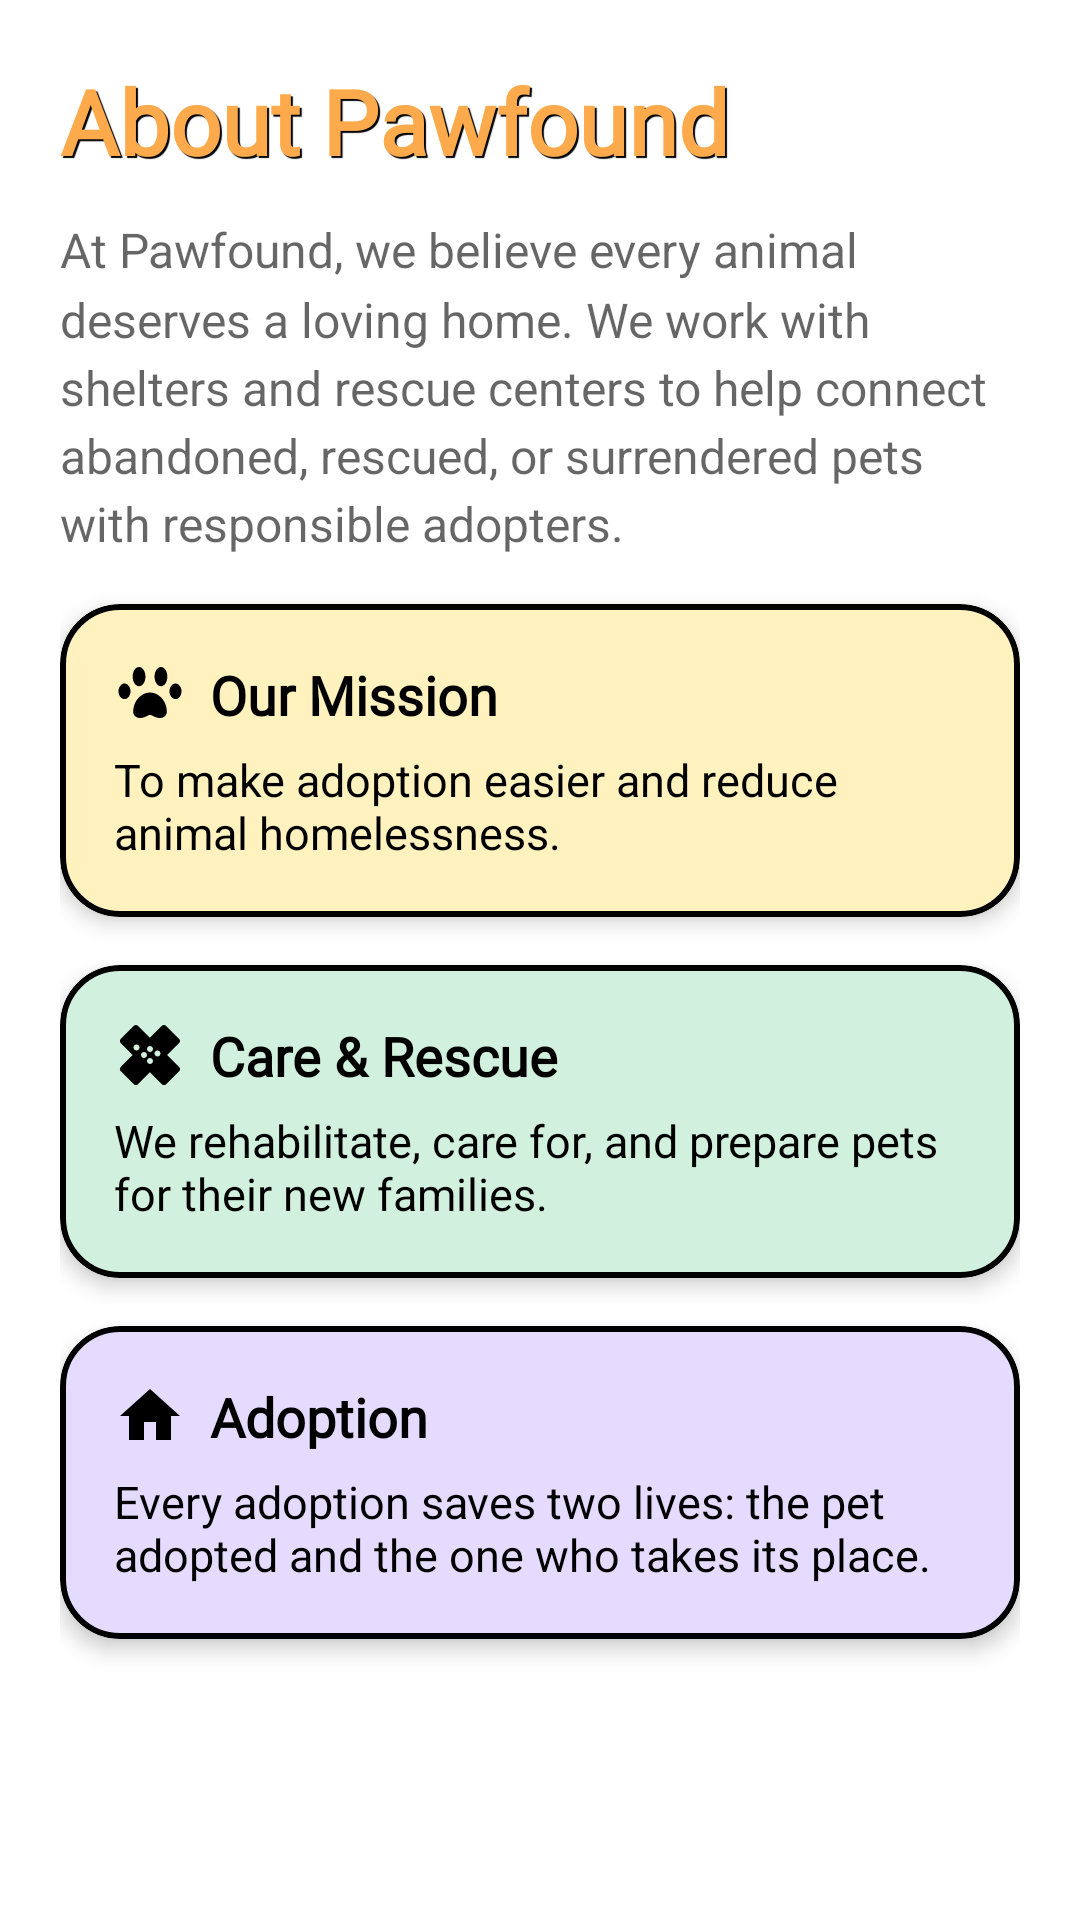

Screen size 1080 x 1920. Icon name, then its box in pixels as box(x1, y1, x2, y2):
healing: box(120, 1025, 180, 1085)
home: box(120, 1389, 180, 1440)
paw: box(118, 667, 182, 718)
